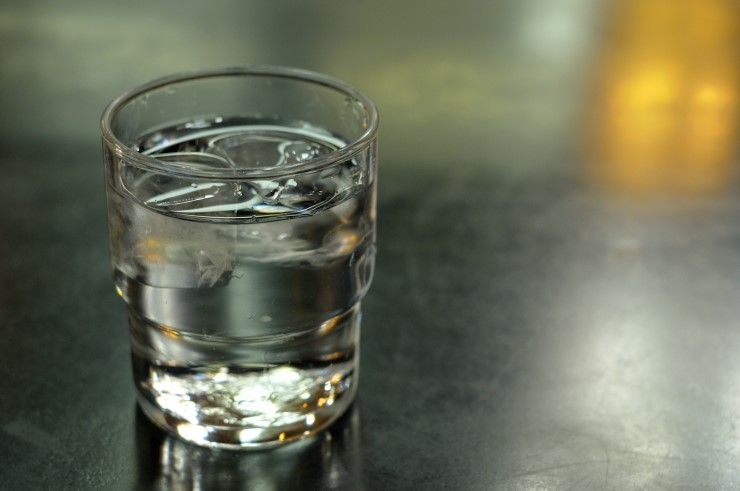glass of water: (92, 61, 386, 465)
